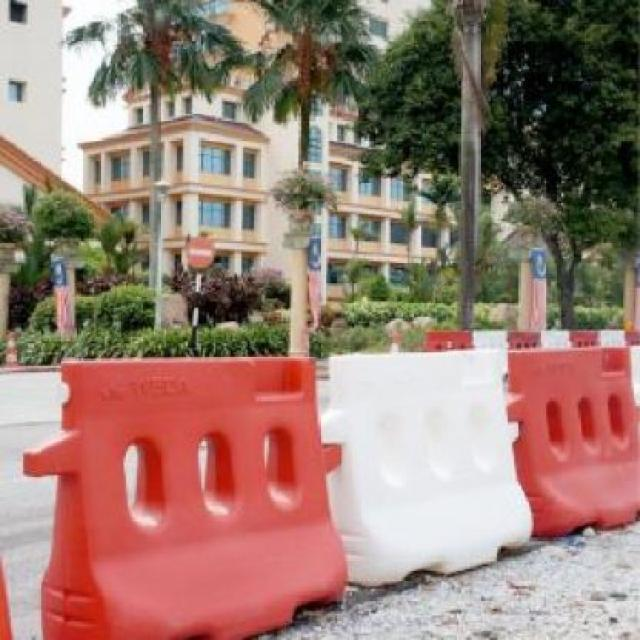fallen_object: (26, 320, 365, 640), (283, 347, 545, 592), (489, 325, 640, 537), (399, 309, 640, 387)
